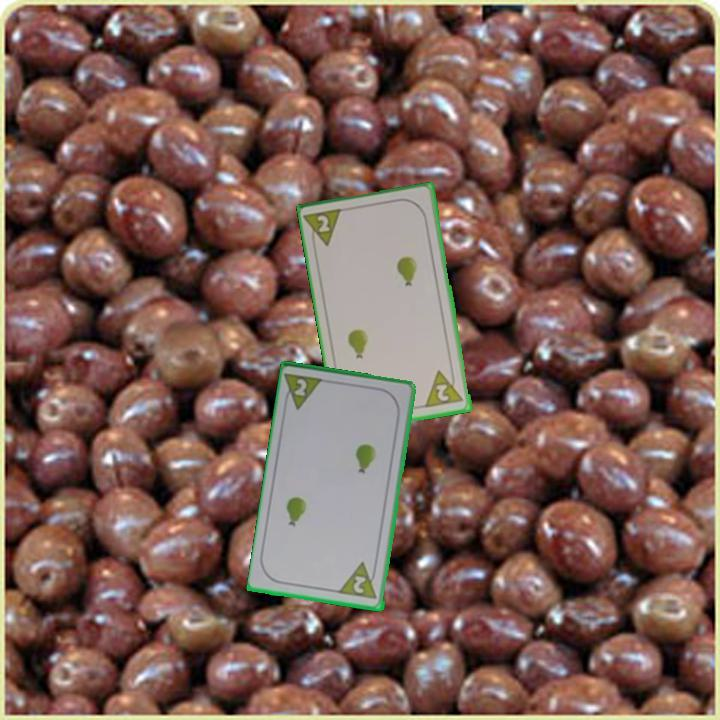2p: (302, 205, 347, 252), (422, 365, 467, 411), (350, 572, 370, 597), (291, 375, 310, 399)
